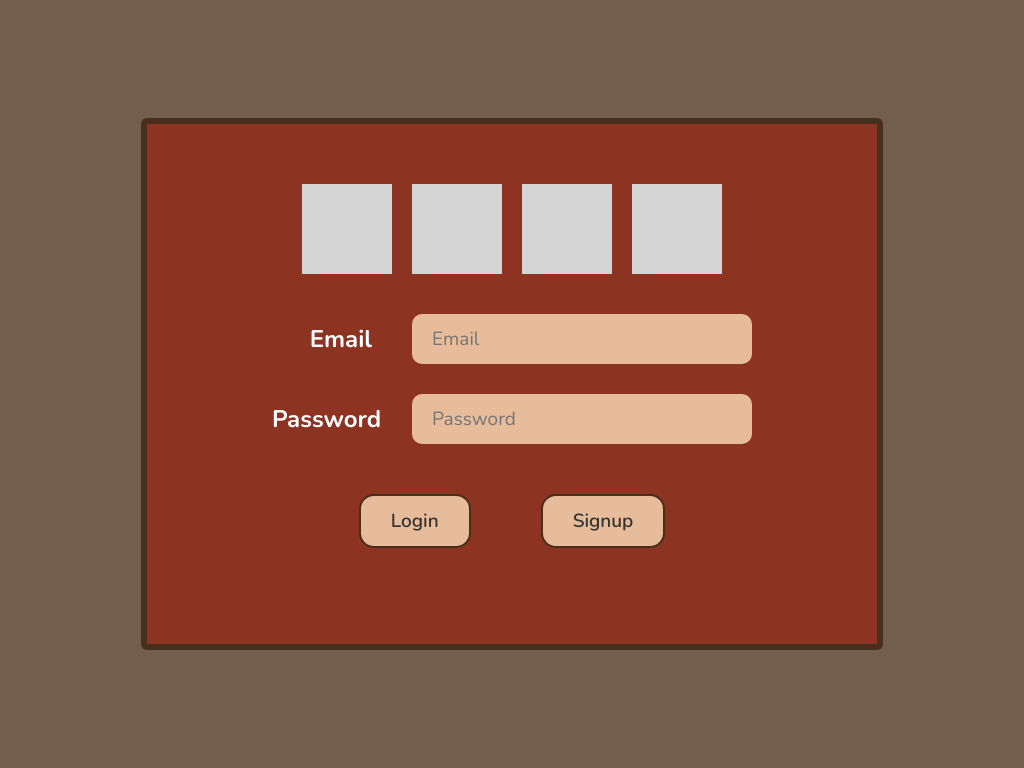
Login.invalid › login renders an invalid state when login succeeds but no token supplied
The width and height of the screenshot is (1024, 768).
Type "user@test.com" into the field with placeholder "Email" at coordinates (582, 339), box [412, 314, 752, 364]
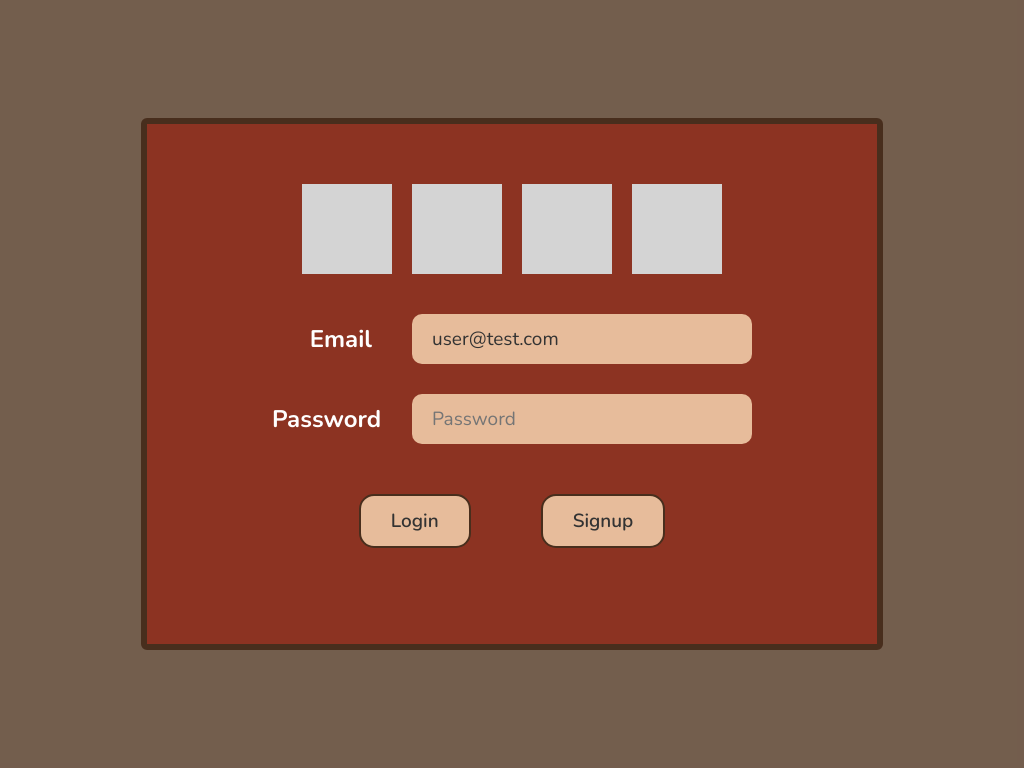
Type "pass456" into the password field with placeholder "Password" at coordinates (582, 419), box [412, 394, 752, 444]
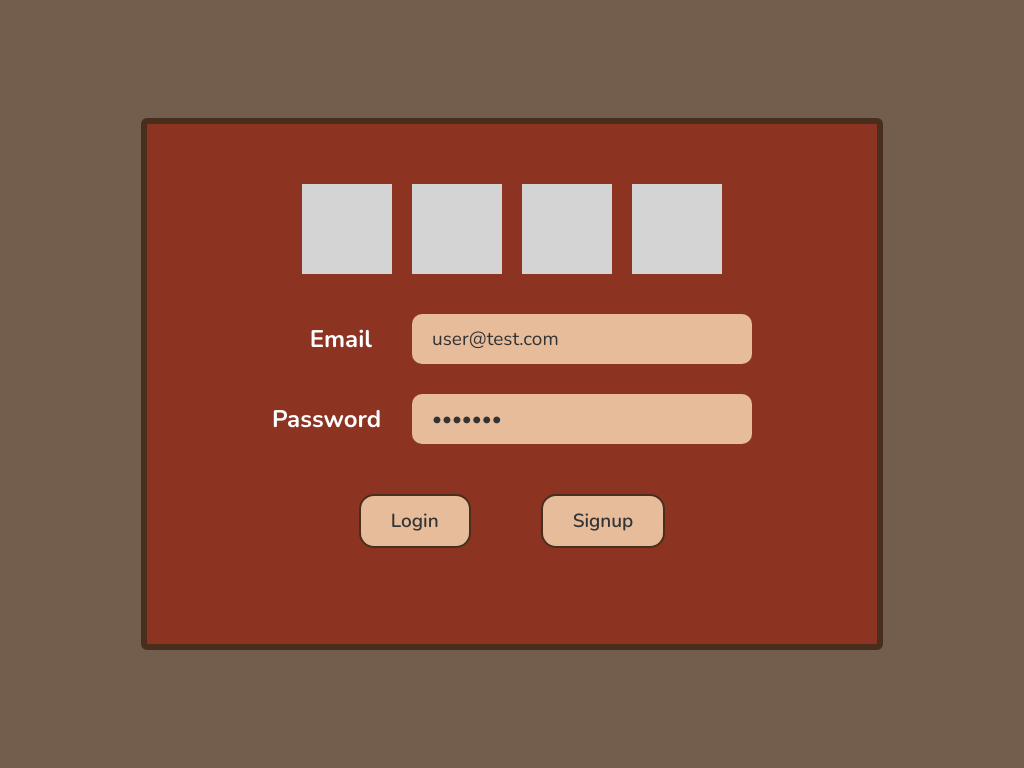
Click the button "Login" at coordinates (415, 521), box [359, 494, 471, 548]
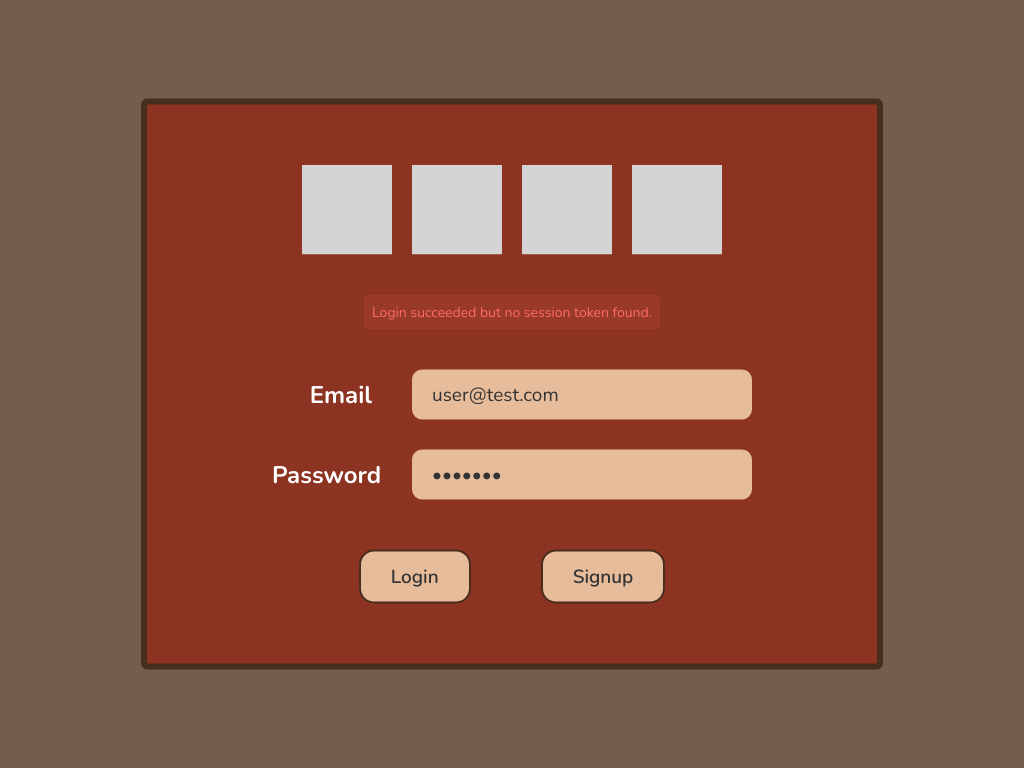
Expected: the text "Login succeeded but no session token found." is shown, [364, 294, 660, 330]
